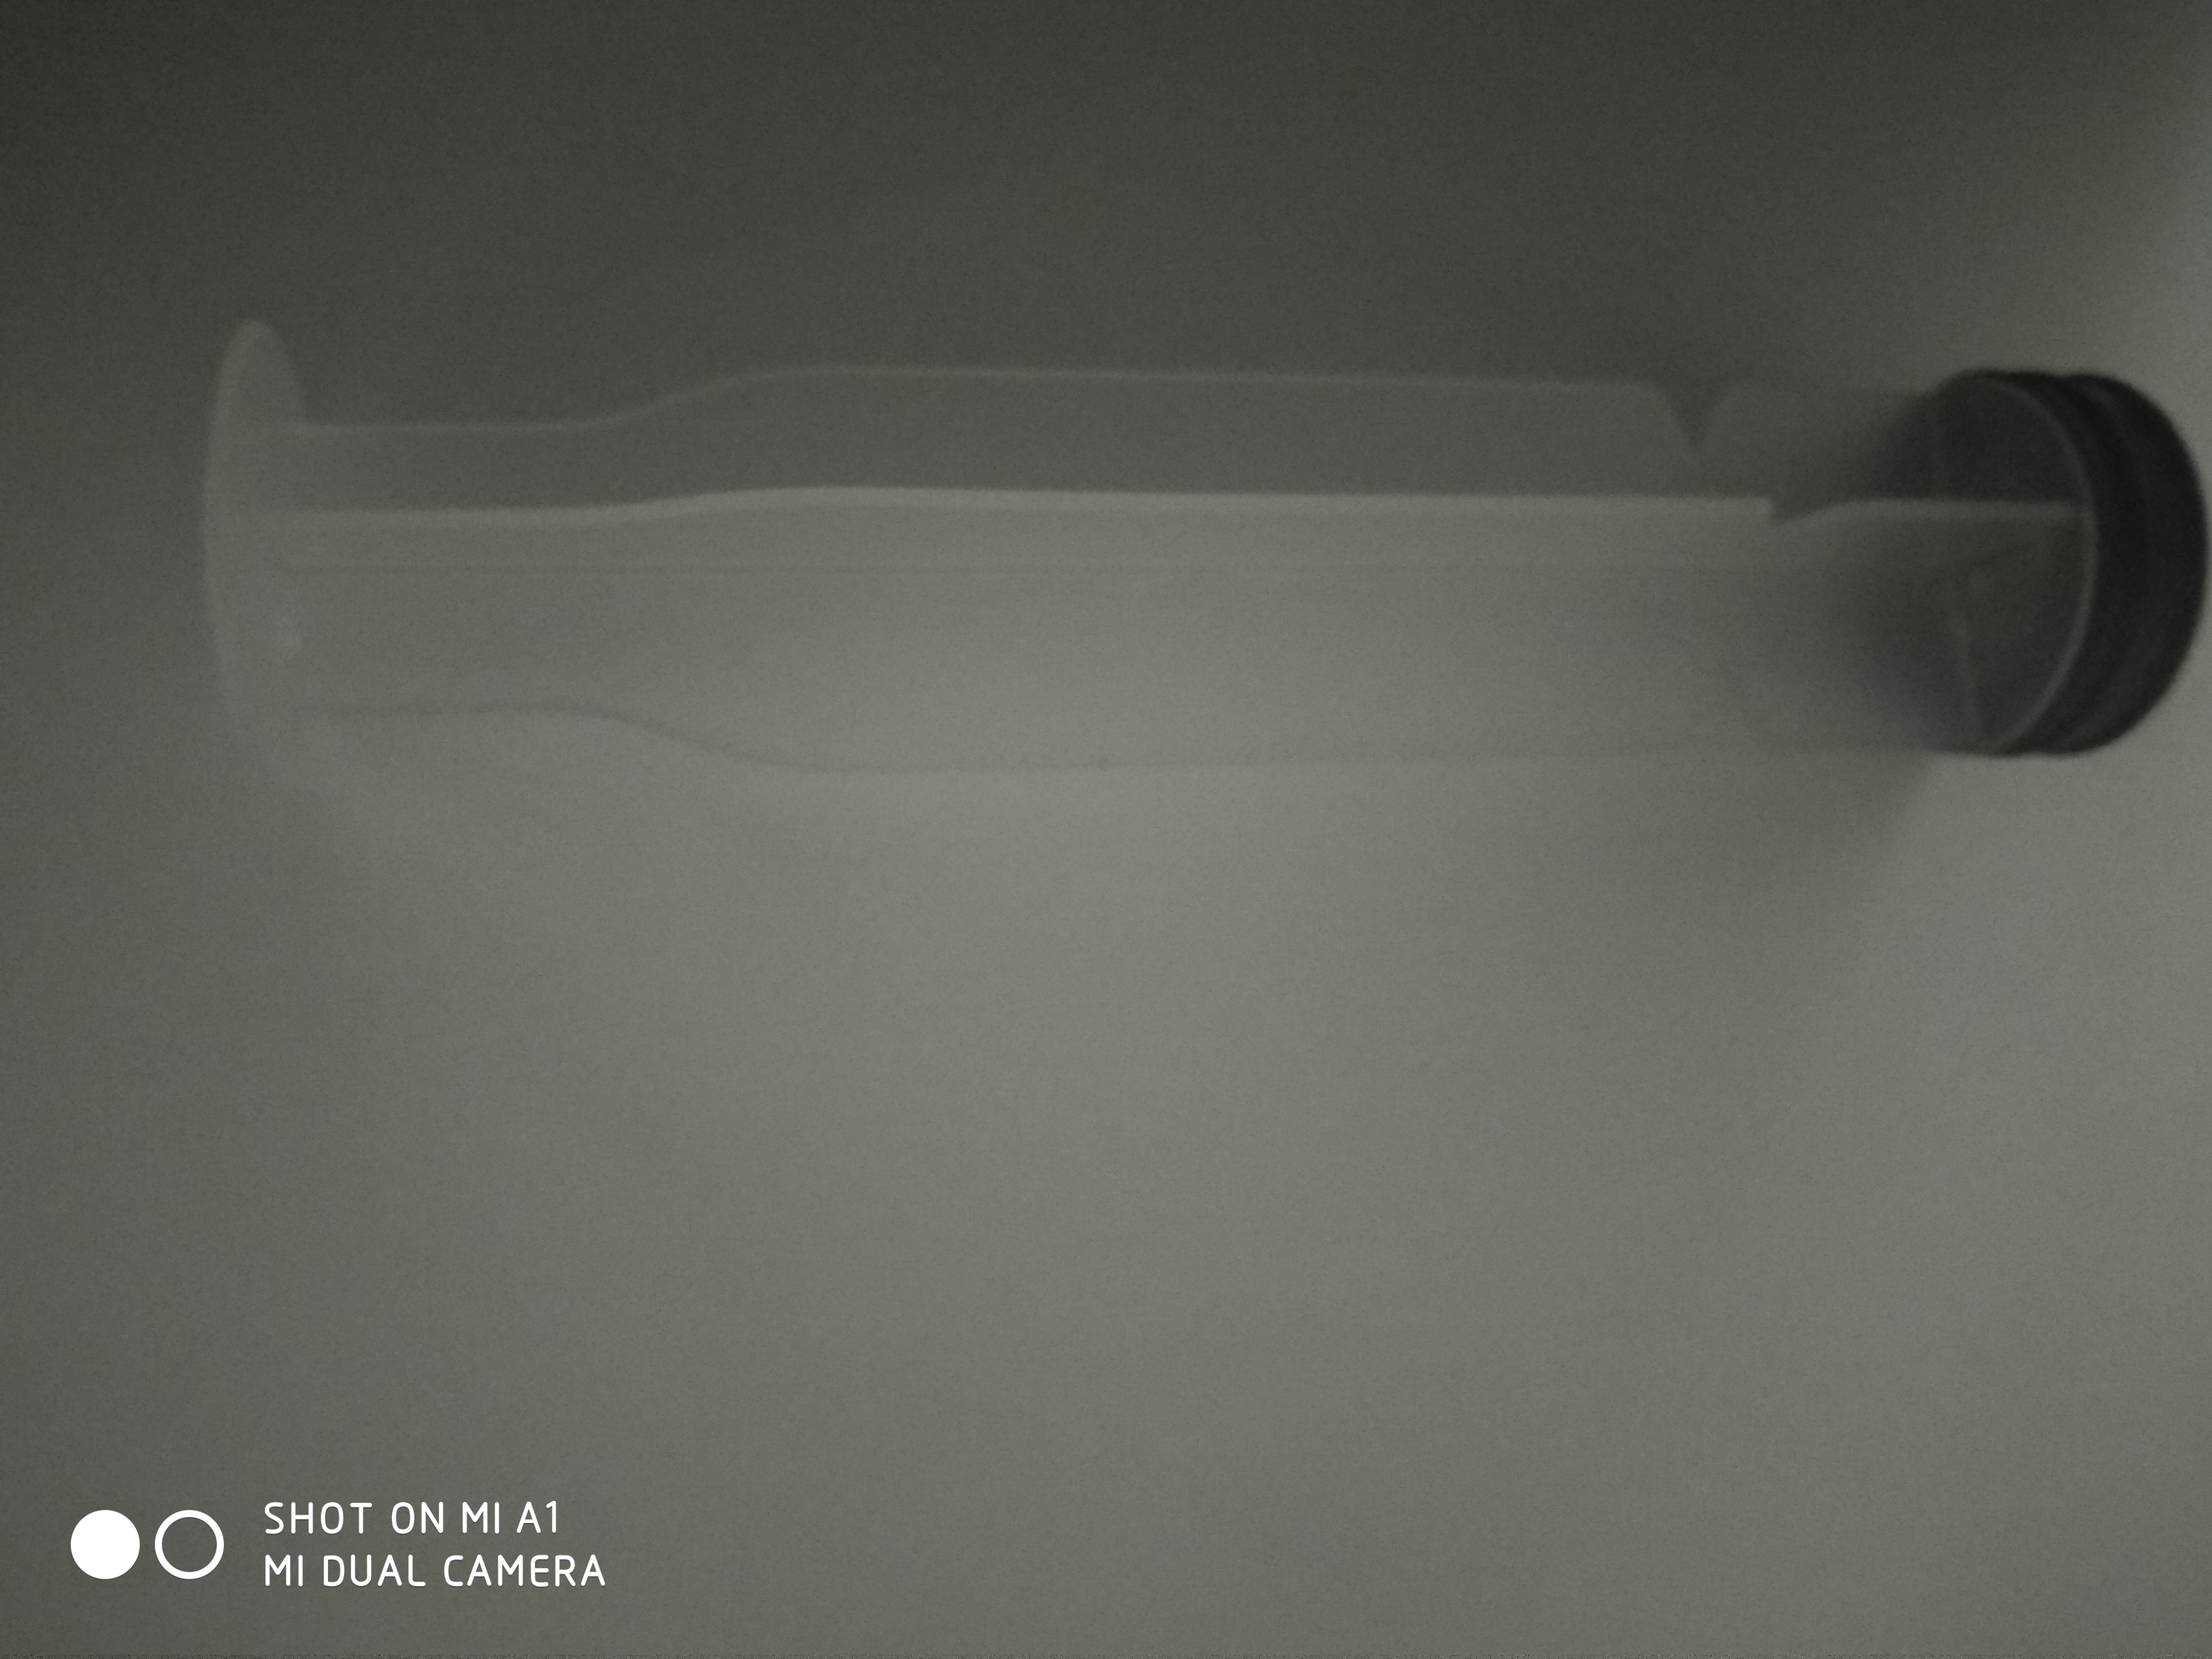plunger: (192, 308, 2210, 777)
